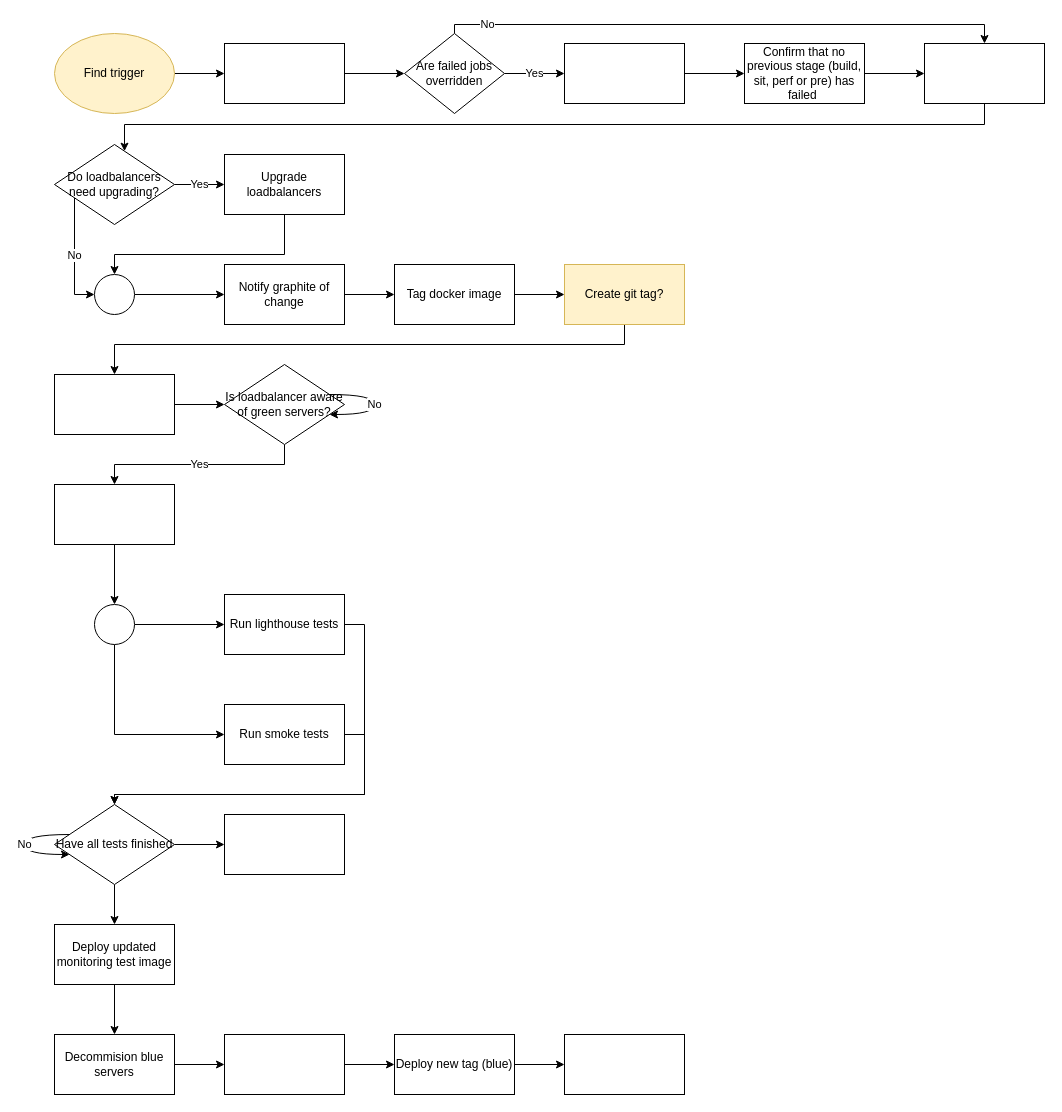
Some shapes in this 1062 by 1112 pixel diagram are drawn without their labels. Here are the shapes that lost their labels. From the top down, the box of each, then its label:
(224, 42, 344, 104): Create release ticket in Jira
(564, 42, 684, 104): Add comment to release explaining why failed jobs are overridden
(924, 42, 1044, 104): Publish changelog
(54, 374, 174, 434): Create new servers (green)
(54, 484, 174, 544): Create Kubernetes namespace for tests
(224, 814, 344, 874): Instruct loadbalancer to send traffic to new (green) servers
(224, 1034, 344, 1094): Rename green servers to blue servers and re-tag as blue
(564, 1034, 684, 1094): Notify graphite that deployment is completed
